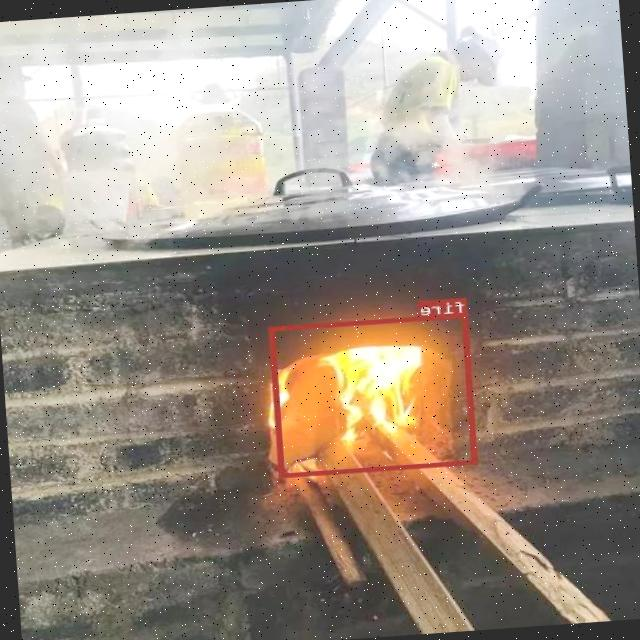fire: (270, 312, 478, 476)
